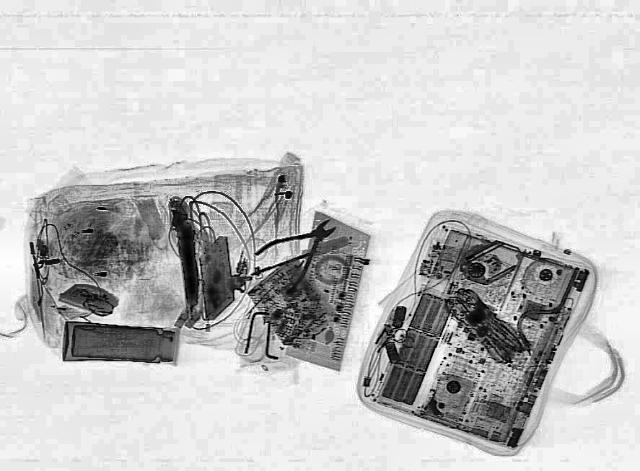Pliers: (238, 207, 360, 293)
